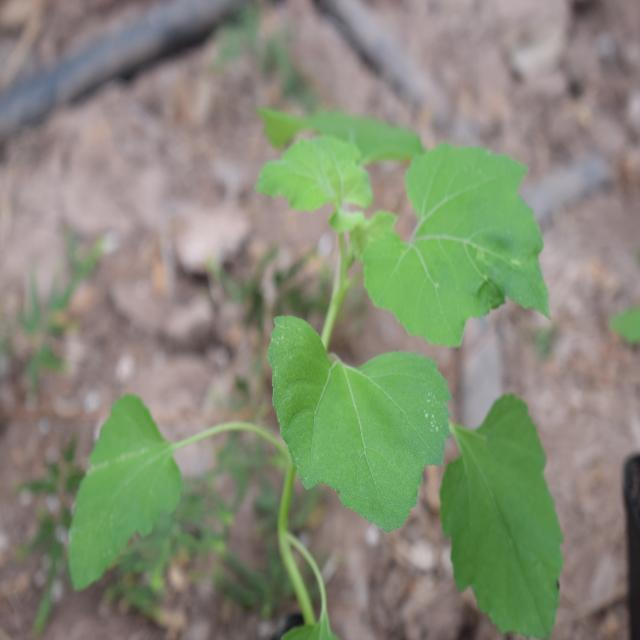cocklebur: (199, 92, 584, 619)
